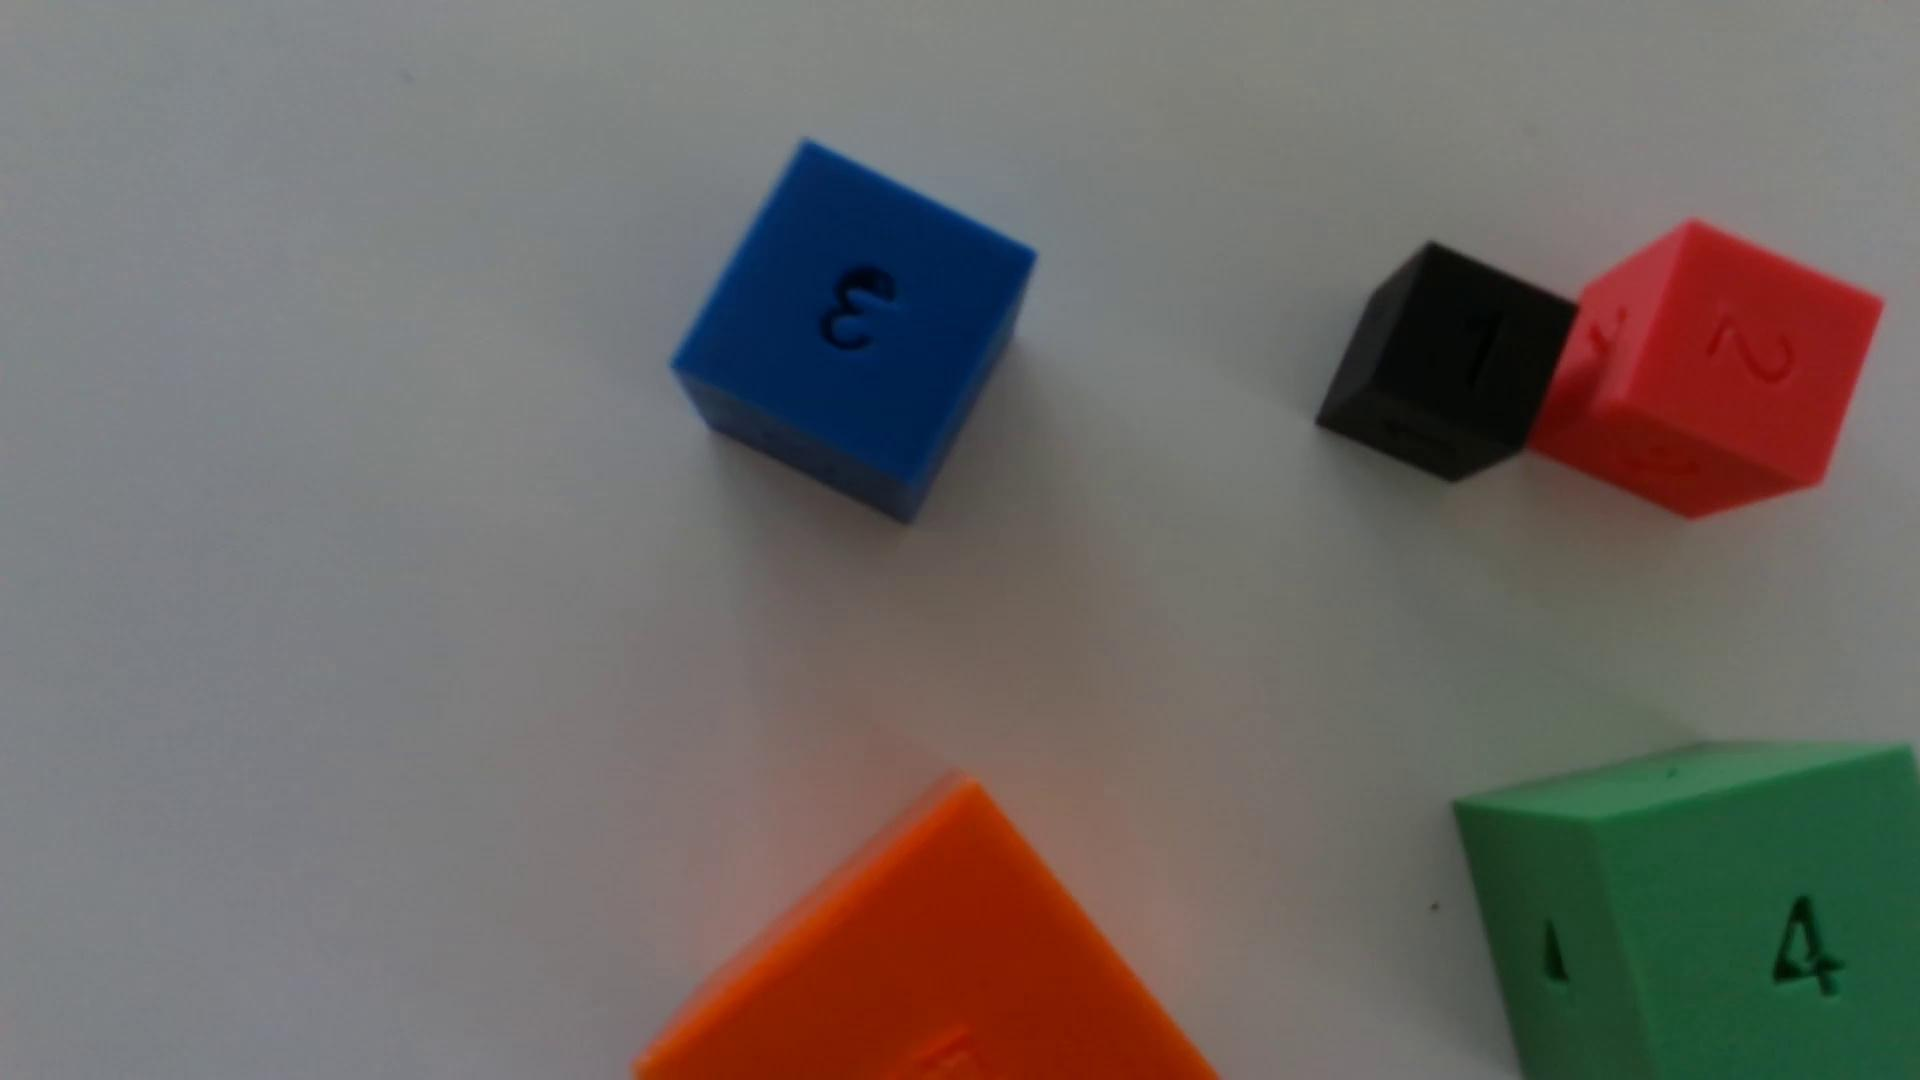black: (1317, 243, 1576, 484)
blue: (673, 142, 1036, 524)
green: (1455, 744, 1920, 1080)
orange: (636, 781, 1217, 1080)
red: (1528, 222, 1882, 520)
